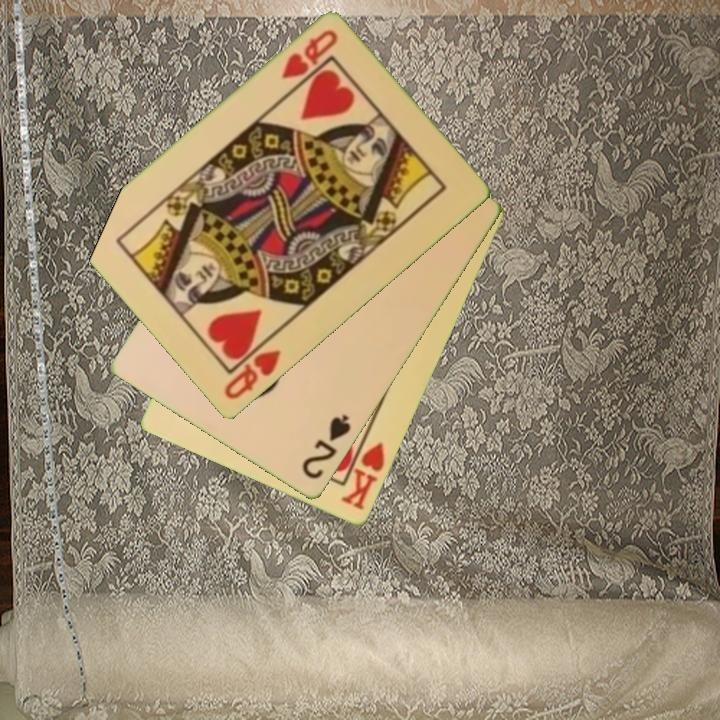2s: (298, 411, 354, 483)
Kh: (337, 429, 388, 514)
Qh: (221, 334, 284, 403), (278, 26, 341, 83)
